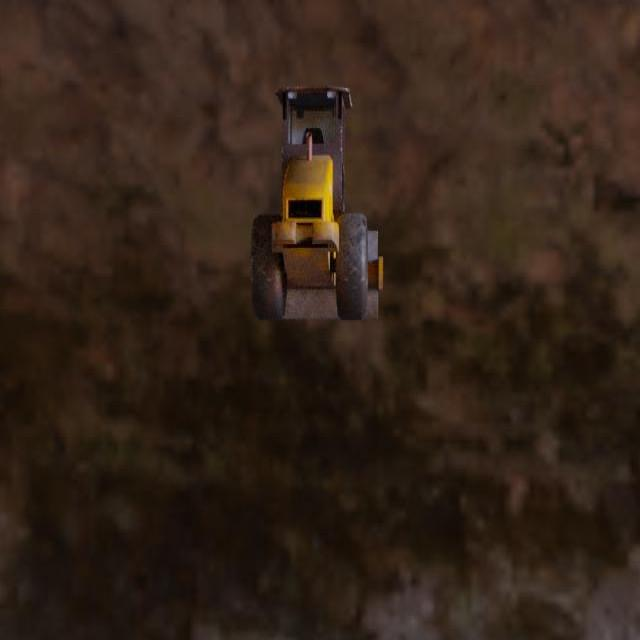Roller: (249, 84, 383, 320)
